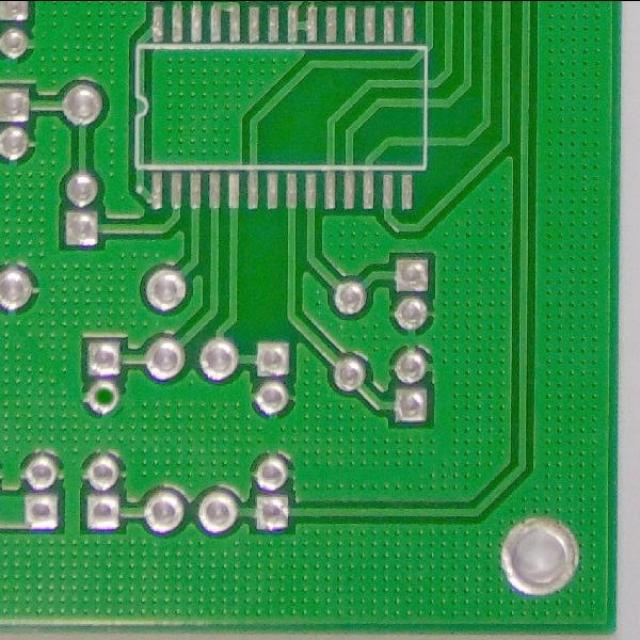Missing_Hole: (82, 377, 123, 417)
